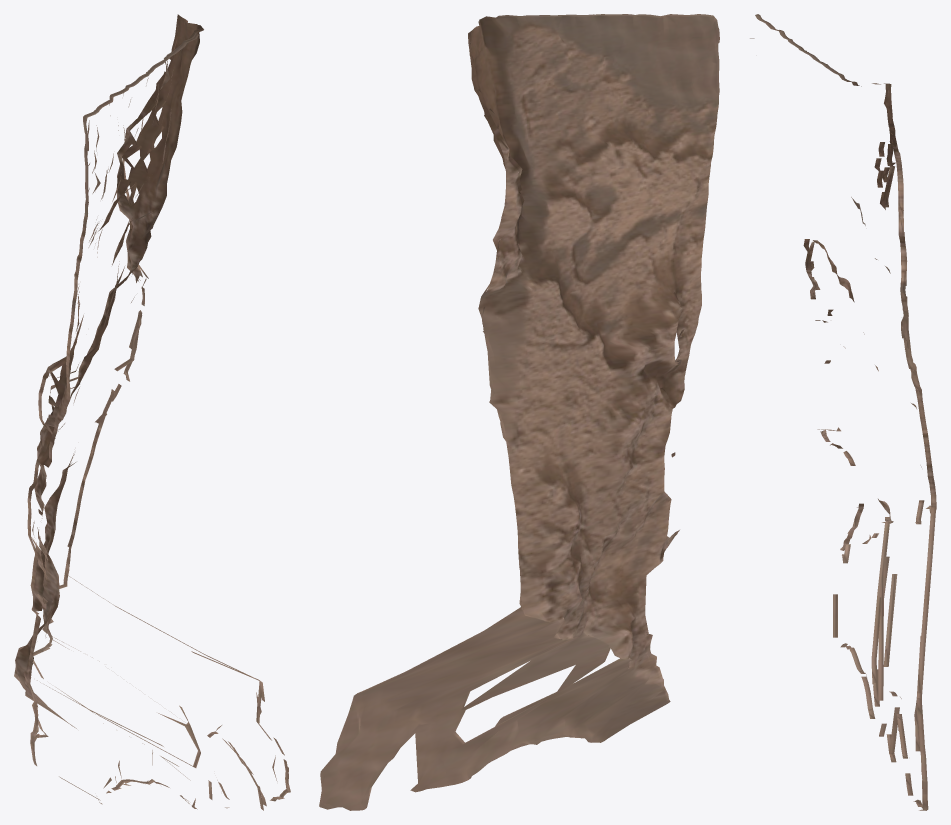
3 renders of one model, left to right at view 1: azimuth 30°, elevation 25°; view 2: azimuth 150°, elevation 25°; view 3: azimuth 270°, elevation 25°, orthographic. The views are drawn at different scales.
Bounding box in the file's own units: 0.5678 × 1.46 × 0.368.
Materials: 1 (1 with a texture image).
